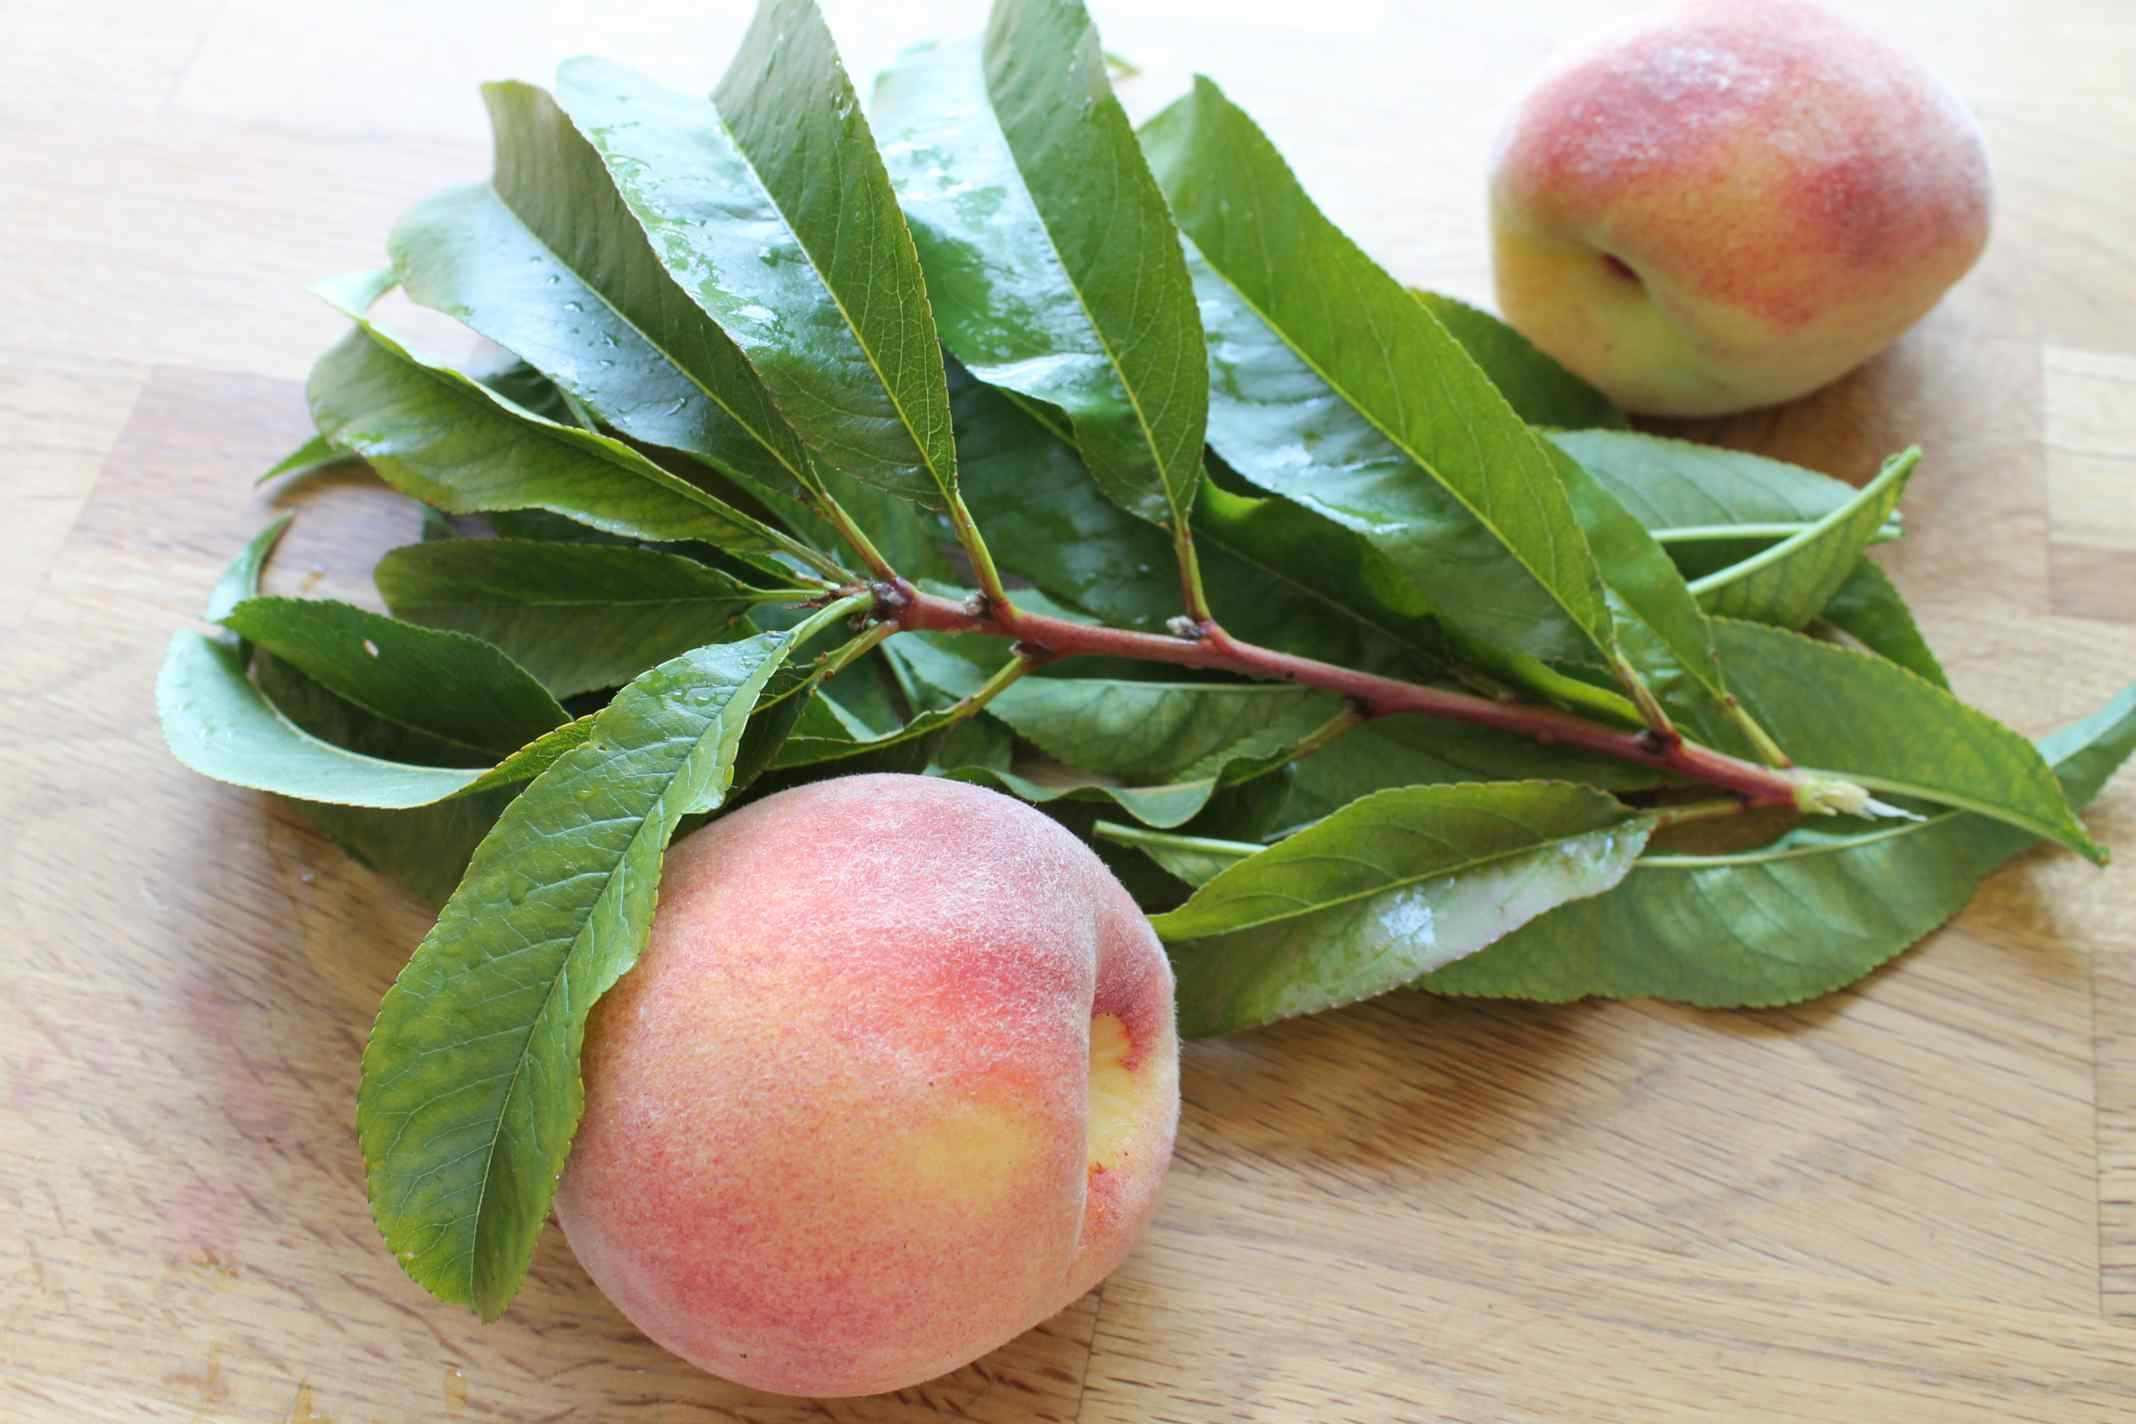Peach leaf: (342, 606, 850, 1330), (1101, 11, 1642, 683), (607, 2, 995, 517), (920, 16, 1232, 556), (418, 130, 838, 517), (1144, 776, 1667, 1035), (308, 277, 801, 550), (369, 524, 764, 706)
